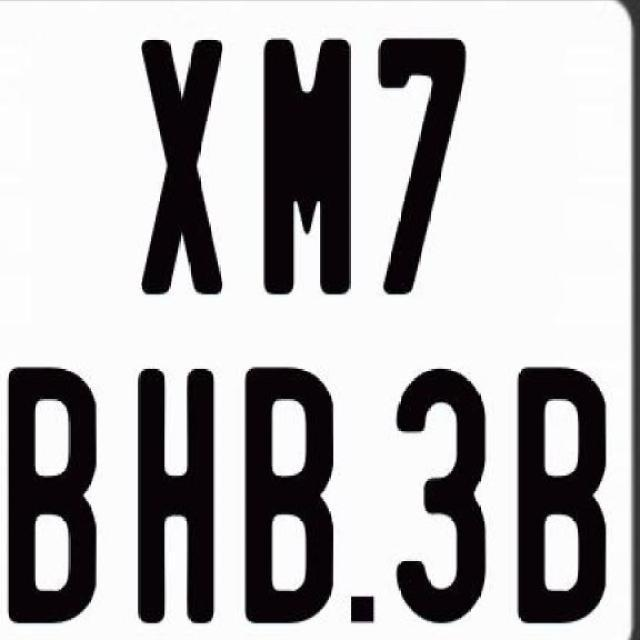license-plate: (0, 3, 636, 635)
